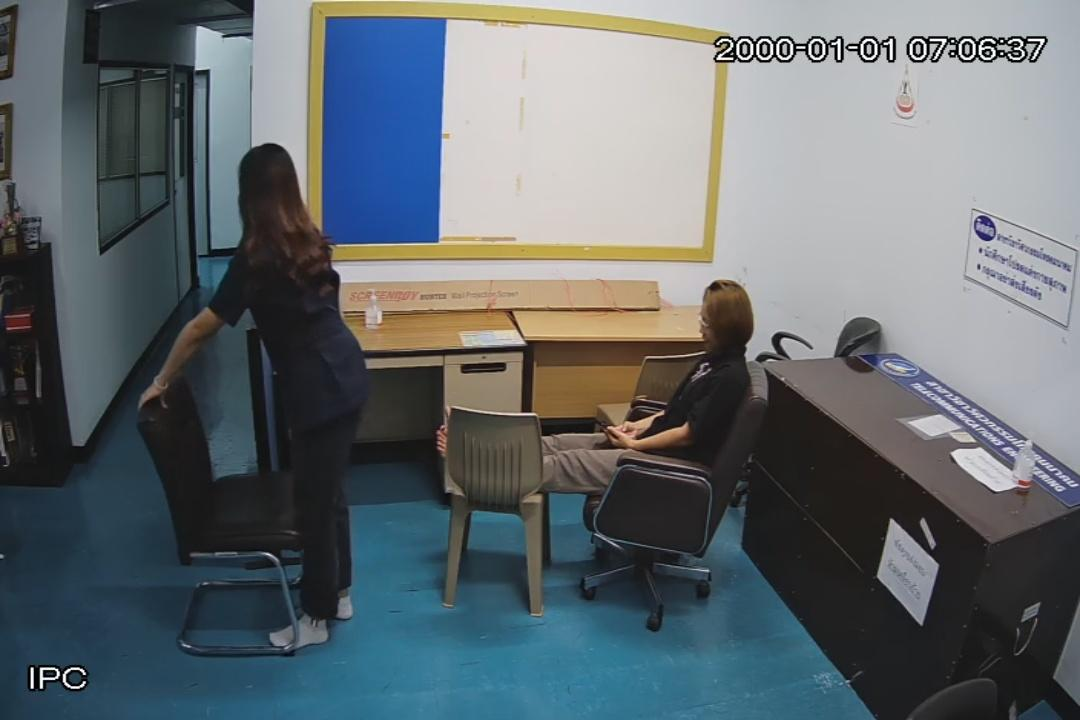normal: (226, 138, 378, 668), (543, 266, 772, 487)
